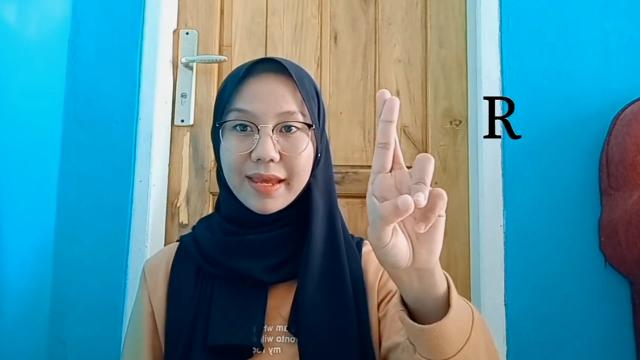R: (359, 84, 448, 272)
